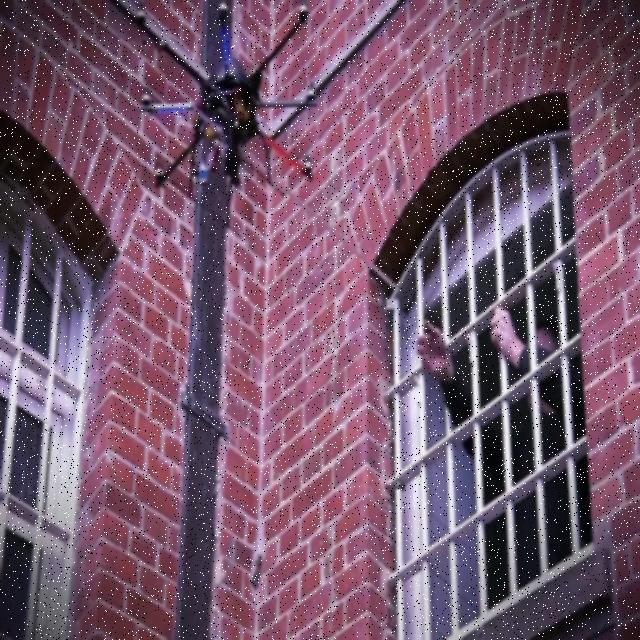UAV: (136, 2, 314, 186)
